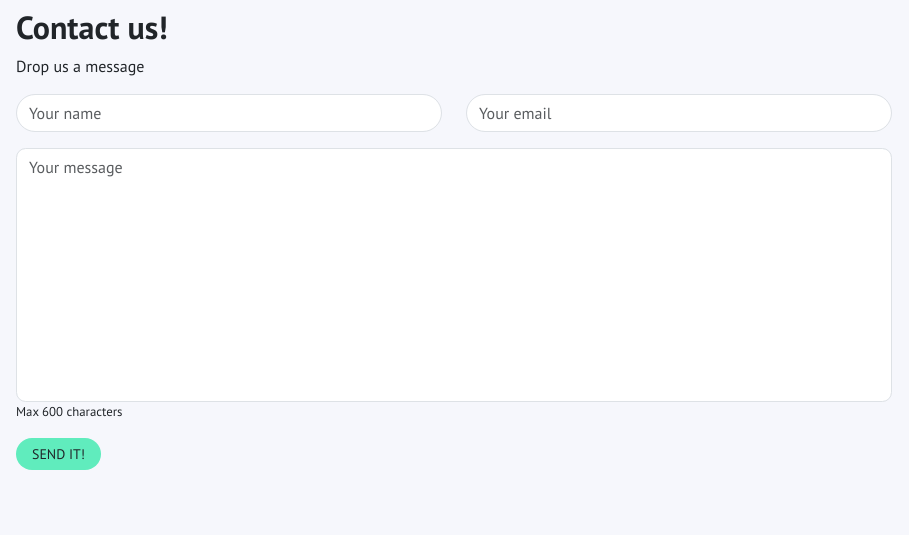
Test: Contact form › display message after something went wrong
The image size is (909, 535).
Type "Name" into the field with placeholder "Your name" at (229, 113), box [16,94,442,132]
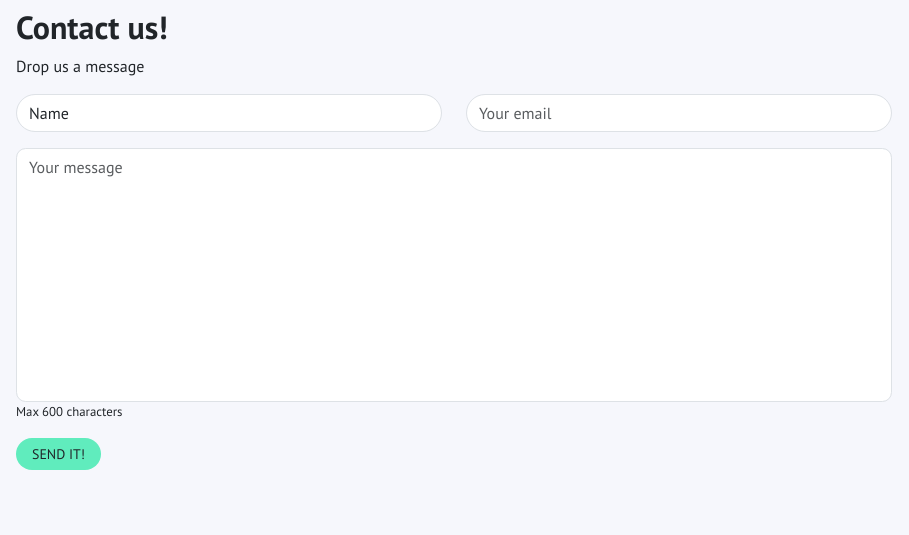
Type "email@test.com" into the field with placeholder "Your email" at (679, 113), box [466,94,892,132]
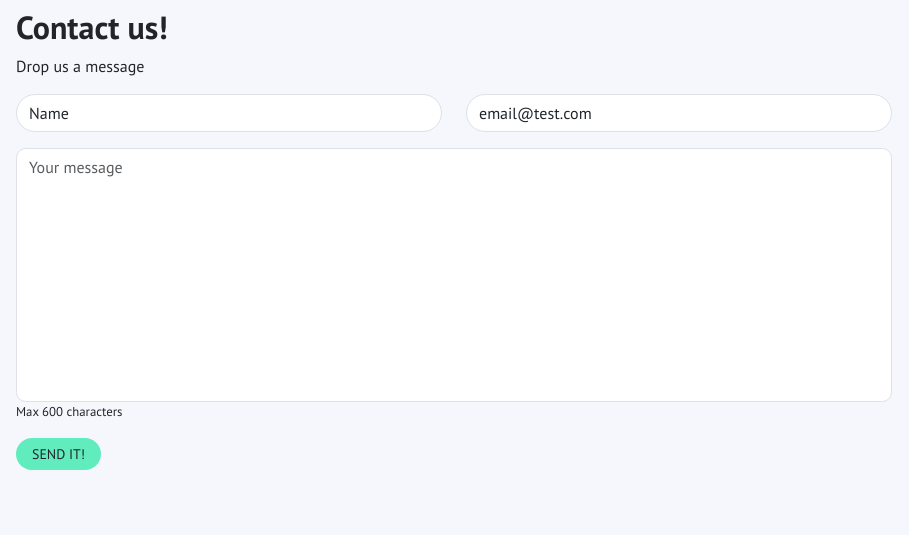
Type "Some valid message" into the text box with placeholder "Your message" at (454, 275), box [16,148,892,402]
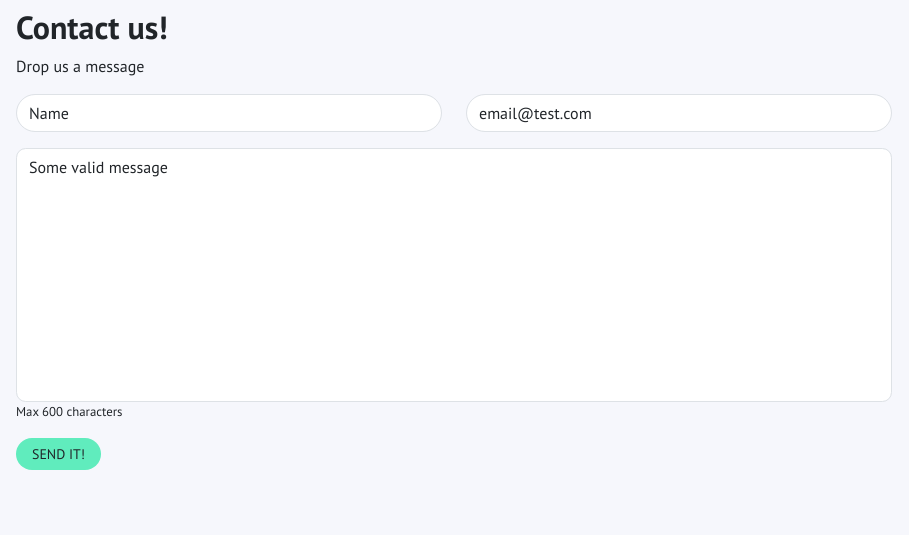
Click the button "Send it!" at (58, 454), box [16,438,101,470]
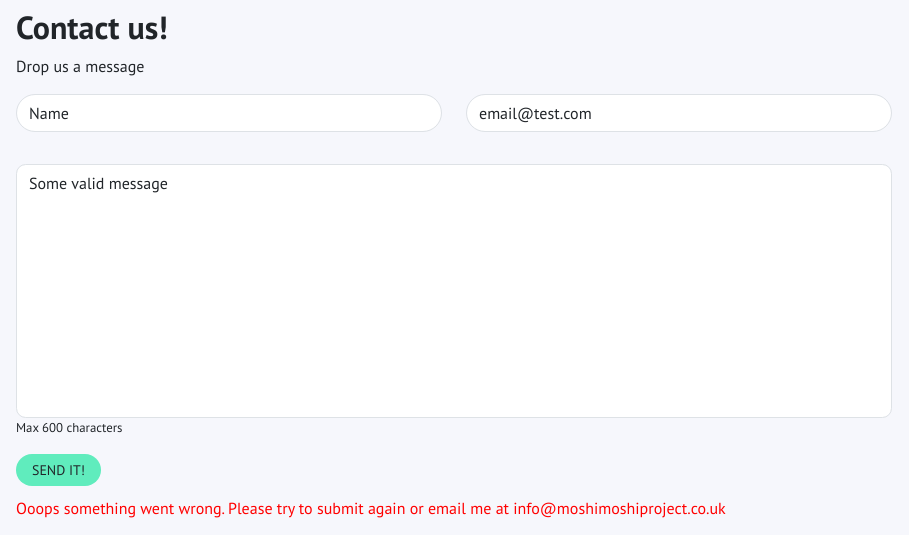
expect the text "something went wrong" is shown: met, box [16,498,726,518]
